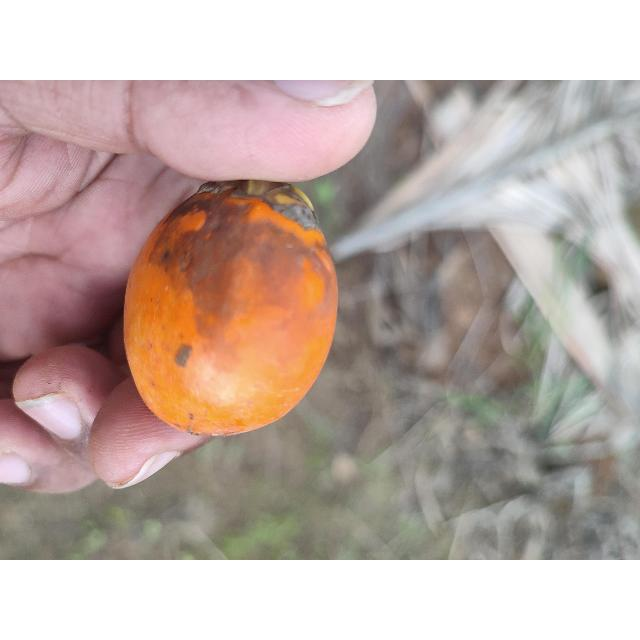good: (118, 181, 342, 439)
